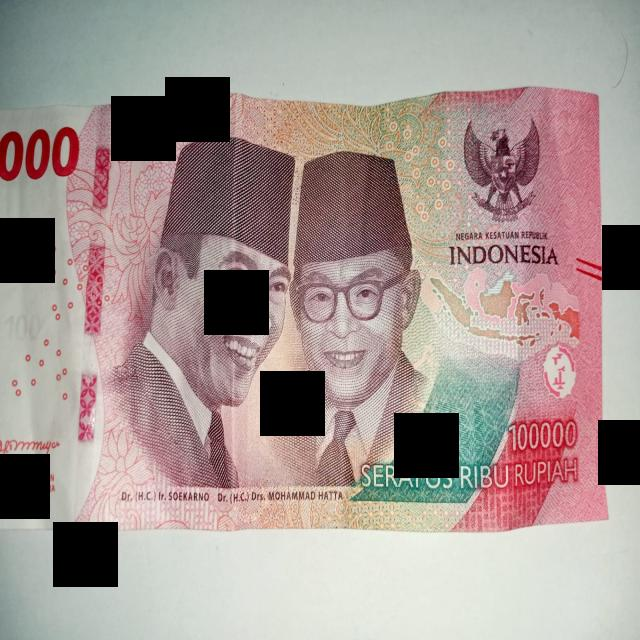seratusribu rupiah: (0, 87, 608, 530)
